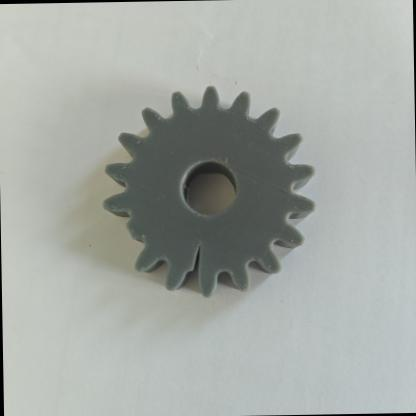defect: (162, 232, 230, 311), (94, 196, 160, 276)
gear: (38, 69, 330, 344)
